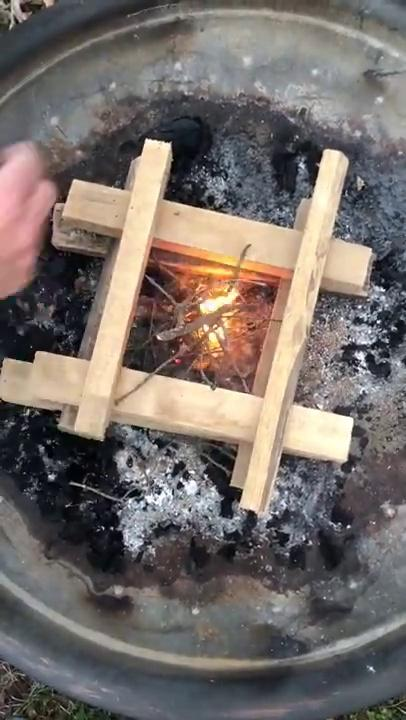Fire: (182, 265, 255, 373)
